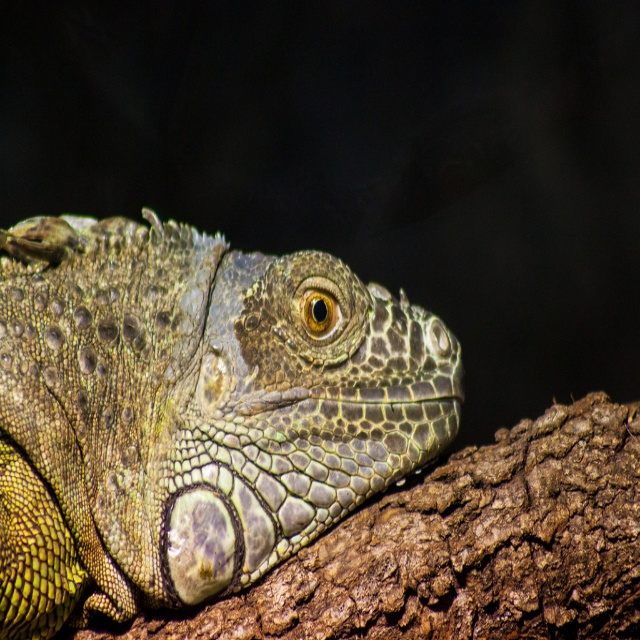Lizard: (2, 201, 461, 640)
